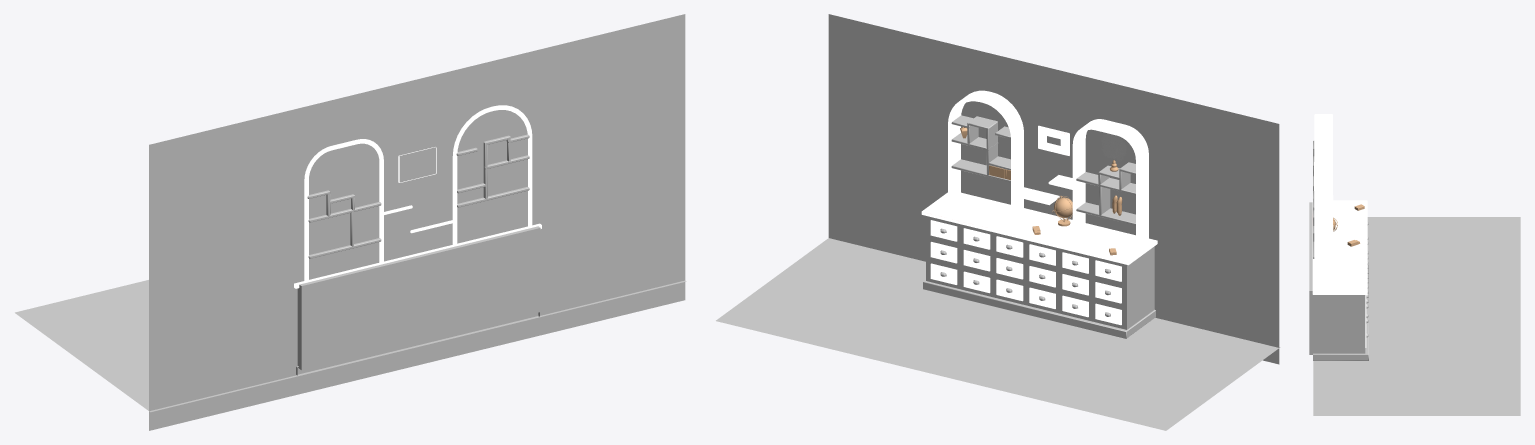
Rendered from Cabinet_Objets_light.fcd42831.glb.
The picture shows the model from 3 angles, left to right: view 1: azimuth 30°, elevation 25°; view 2: azimuth 150°, elevation 25°; view 3: azimuth 270°, elevation 25°; orthographic projection. The views are drawn at different scales.
Parts seen in each view (by area): view 1: wall, desk, floor, arche1, arche2, desk_haut; view 2: wall, floor, desk, desk_haut (×2), arche2, arche1, desk_bas, Gainsbourg, desk_haut.10, plante; view 3: floor, desk, desk_haut, arche1, arche2, desk_bas.
Boxes of the visible parts, box(x1,y1,x2,y2) form: wall: box(149, 14, 685, 430); desk: box(297, 226, 540, 370); floor: box(15, 280, 686, 412); arche1: box(452, 105, 532, 244); arche2: box(304, 139, 383, 281); desk_haut: box(294, 223, 541, 288); wall: box(828, 14, 1279, 364); floor: box(716, 238, 1280, 430); desk: box(926, 216, 1154, 329); desk_haut (×2): box(921, 192, 1157, 265); arche2: box(1072, 119, 1148, 245); arche1: box(948, 90, 1023, 214); desk_bas: box(923, 280, 1155, 338); Gainsbourg: box(1038, 125, 1069, 155); desk_haut.10: box(1076, 172, 1135, 195); plante: box(1101, 133, 1126, 161); floor: box(1313, 217, 1520, 415); desk: box(1309, 202, 1365, 354); desk_haut: box(1312, 200, 1367, 294); arche1: box(1314, 172, 1332, 288); arche2: box(1314, 114, 1332, 172); desk_bas: box(1313, 264, 1368, 360).
Size of what is drawn, in the model's own units: 500 by 255 by 224.
Materials: 5 (1 with a texture image).
